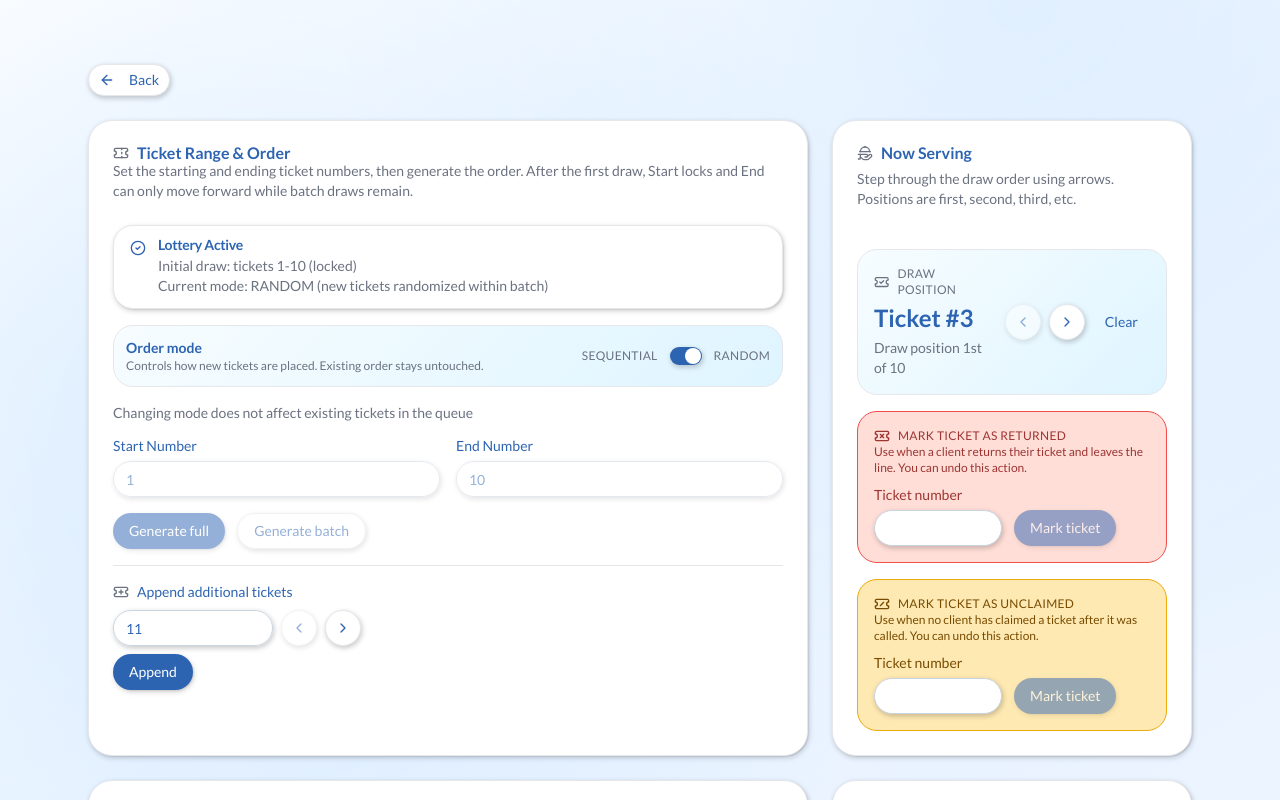
Test: Admin optimistic UI › updates Draw Position immediately before next request resolves
Check: the text "Now Serving" is shown, box [857, 143, 972, 162]
Click the button named "Next draw": [1067, 322] box [1049, 304, 1085, 340]
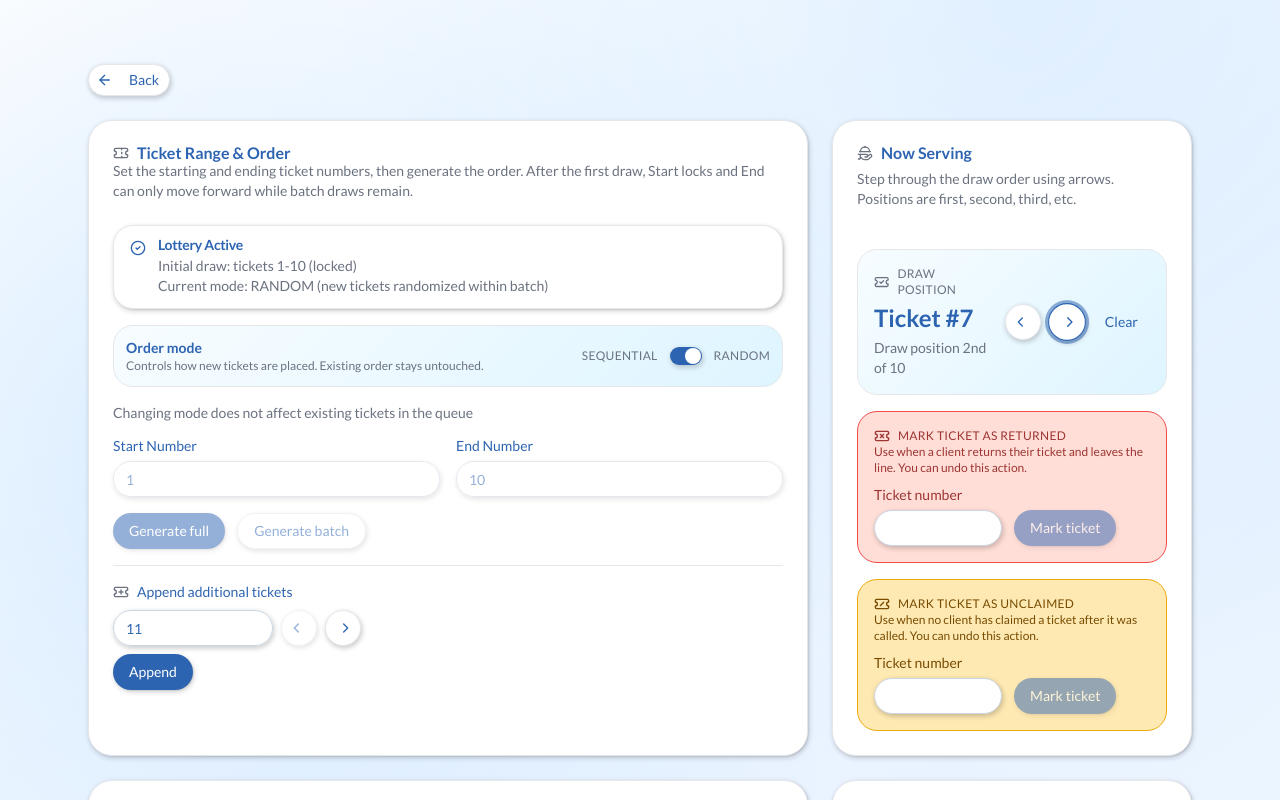
Check: the text "Ticket #7" is shown, box [874, 303, 973, 332]
